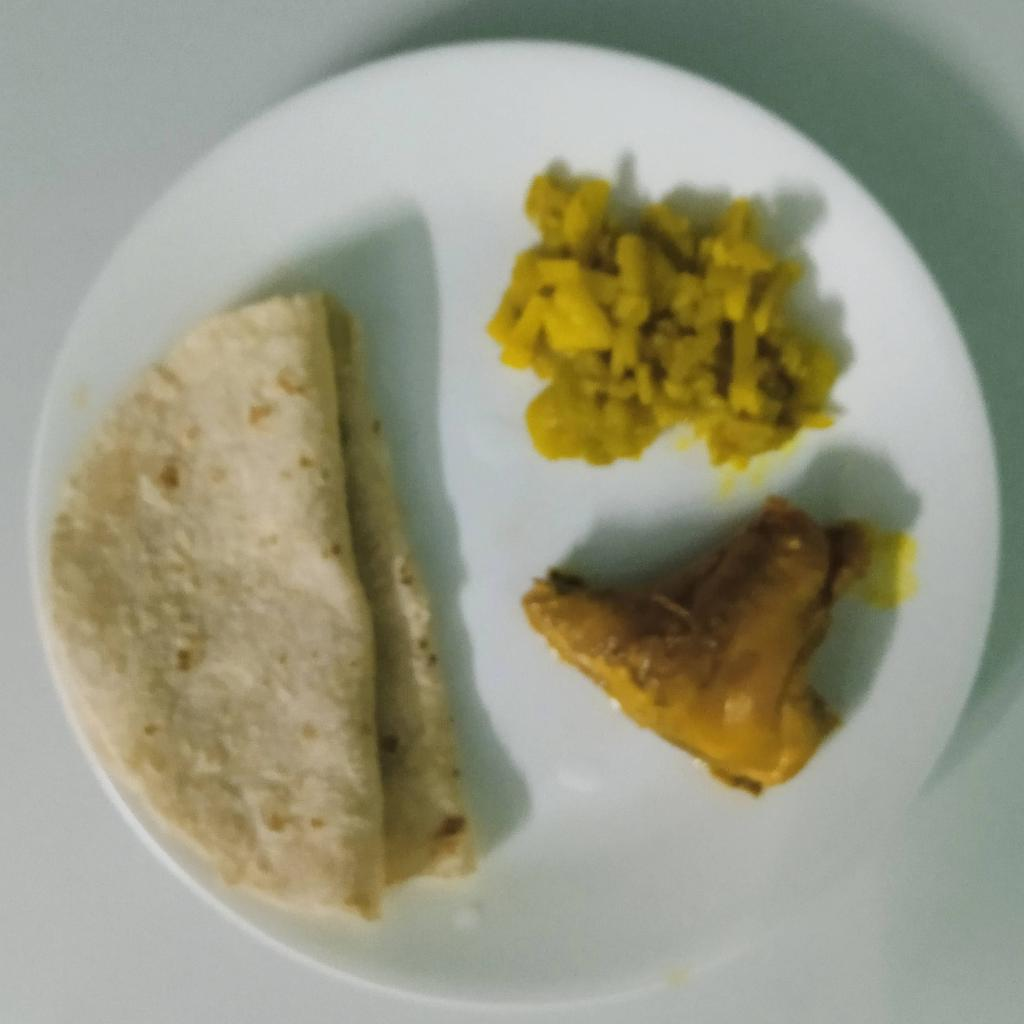chicken: (524, 489, 866, 789)
ruti: (41, 290, 477, 925)
vaji: (486, 172, 833, 464)
